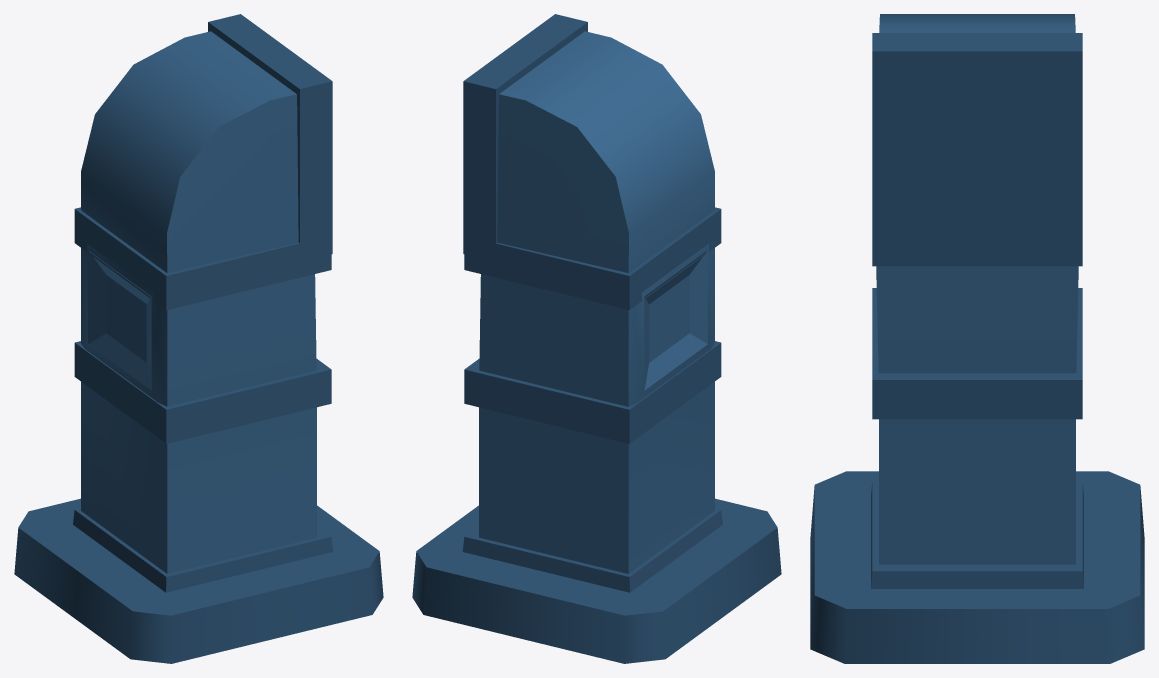
The model's file is Vent_2_C_5.fbx.
3 renders of one model, left to right at view 1: azimuth 30°, elevation 25°; view 2: azimuth 150°, elevation 25°; view 3: azimuth 270°, elevation 25°, orthographic. The views are drawn at different scales.
Visible parts, largest first — view 1: Vent_2_C_5; view 2: Vent_2_C_5; view 3: Vent_2_C_5.
Part boxes in pixels (bbox=[...]): Vent_2_C_5: bbox=[14, 14, 383, 663]; Vent_2_C_5: bbox=[412, 14, 781, 663]; Vent_2_C_5: bbox=[810, 14, 1144, 663].
Size of the model in its own units: 56.66 by 111 by 56.66.
